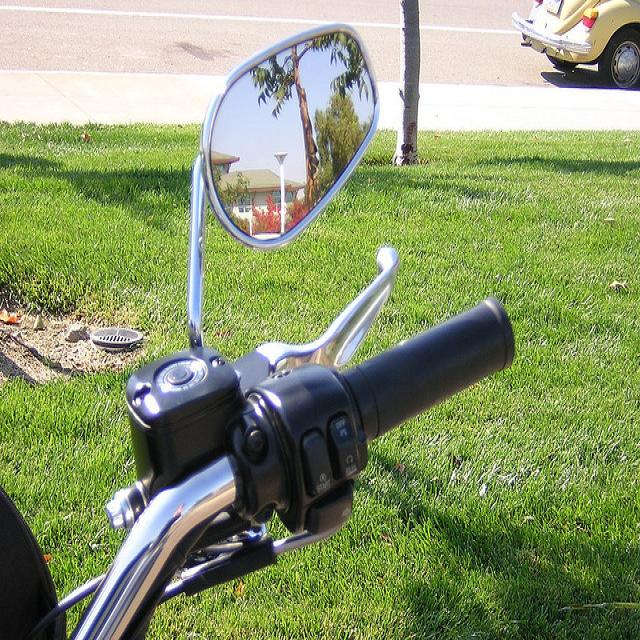motor: (1, 19, 515, 634)
